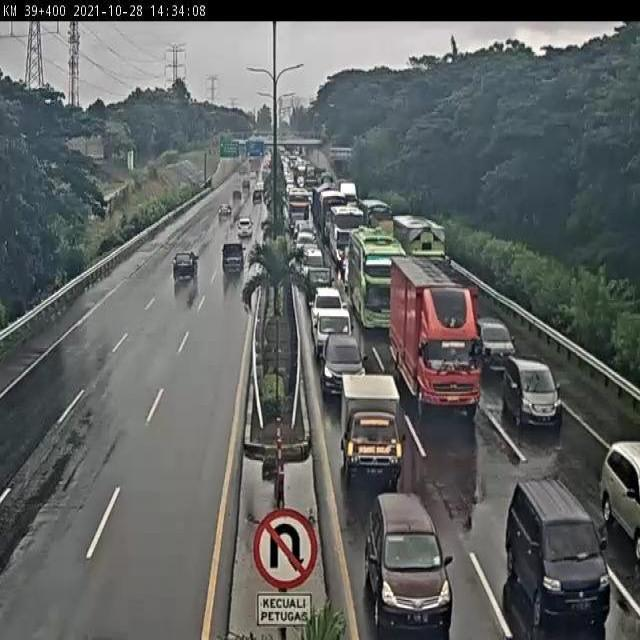car: (500, 484, 613, 628), (364, 492, 455, 633), (338, 368, 404, 477), (587, 420, 640, 541), (501, 355, 562, 427), (469, 319, 516, 368), (320, 331, 361, 387), (313, 303, 352, 357), (305, 268, 337, 308), (299, 241, 326, 279), (307, 283, 346, 308), (220, 243, 247, 279), (172, 248, 197, 284), (296, 228, 315, 251)
truck: (389, 256, 481, 415), (348, 228, 401, 329), (392, 212, 456, 284), (328, 207, 364, 264), (362, 198, 391, 226)
